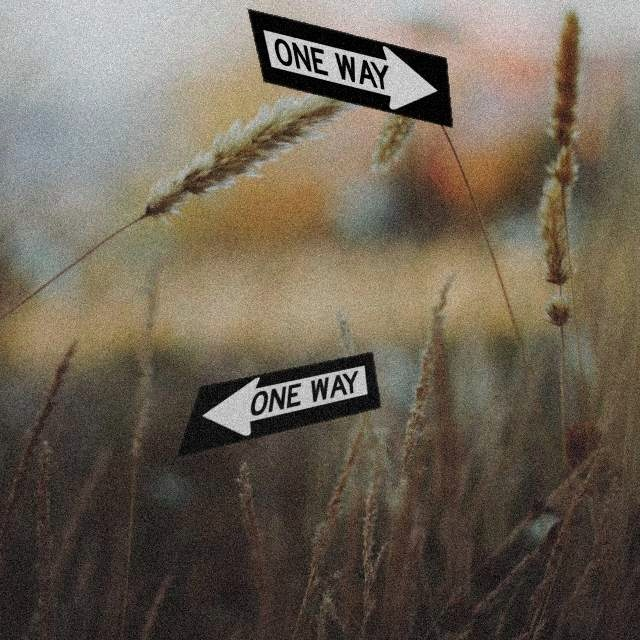ONE_WAY_ left: (175, 351, 381, 458)
ONE_WAY_ right: (247, 8, 453, 128)
